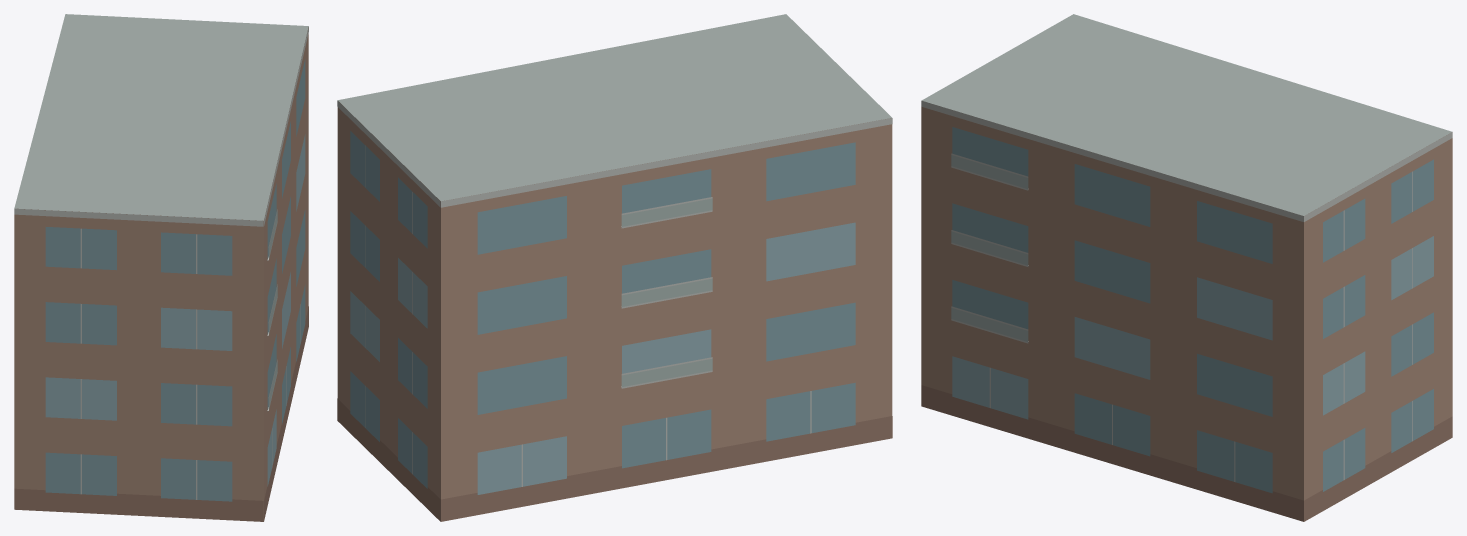
Rendered from survey-upis-32645361.glb.
3 renders of one model, left to right at view 1: azimuth 30°, elevation 25°; view 2: azimuth 150°, elevation 25°; view 3: azimuth 270°, elevation 25°, orthographic. The views are drawn at different scales.
Parts seen in each view (by area): view 1: survey-upis-32645361.tmp; view 2: survey-upis-32645361.tmp; view 3: survey-upis-32645361.tmp.
Part boxes in pixels (x1,y1,x2,y2): survey-upis-32645361.tmp: [14, 14, 308, 521]; survey-upis-32645361.tmp: [337, 14, 892, 521]; survey-upis-32645361.tmp: [921, 14, 1452, 521].
Bounding box in the file's own units: 17.3 × 12.2 × 19.21.
